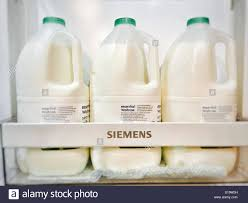milk: (161, 14, 243, 176), (12, 13, 89, 177), (91, 9, 165, 179)
